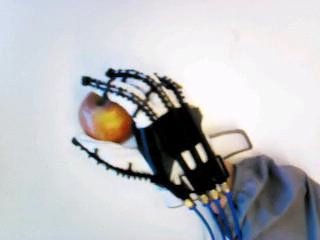apple: (77, 86, 136, 145)
hand: (73, 68, 227, 207)
